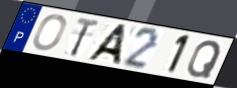1: (167, 34, 193, 76)
2: (120, 26, 163, 72)
A: (83, 23, 130, 67)
O: (30, 14, 68, 52)
Q: (185, 40, 223, 80)
T: (67, 16, 101, 59)
